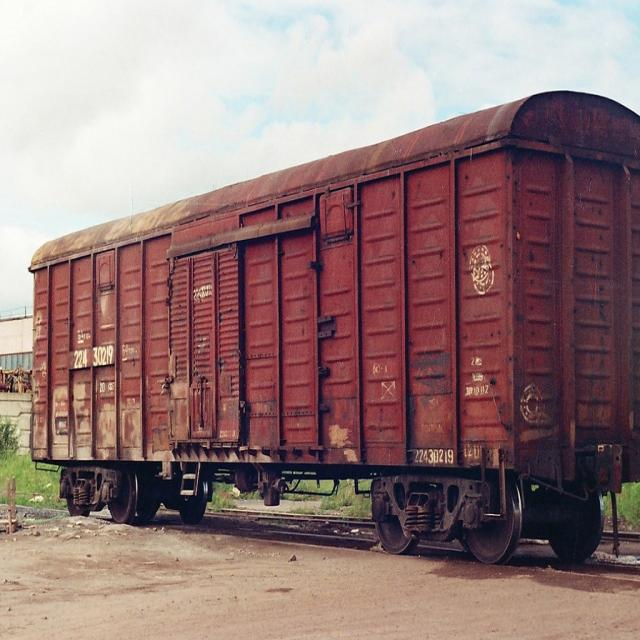boxcar: (17, 72, 640, 585)
